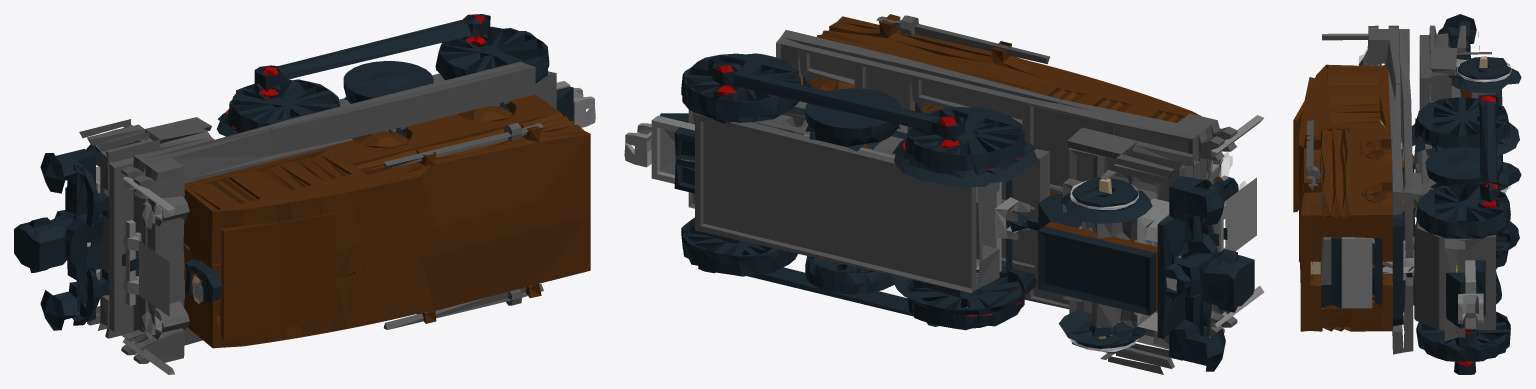
The model's file is hood-unit-2.glb.
3 views of the same model, side by side, from view 1: azimuth 30°, elevation 25°; view 2: azimuth 150°, elevation 25°; view 3: azimuth 270°, elevation 25° (orthographic). The views are drawn at different scales.
Bounding box in the file's own units: 175 × 61.88 × 71.1.
